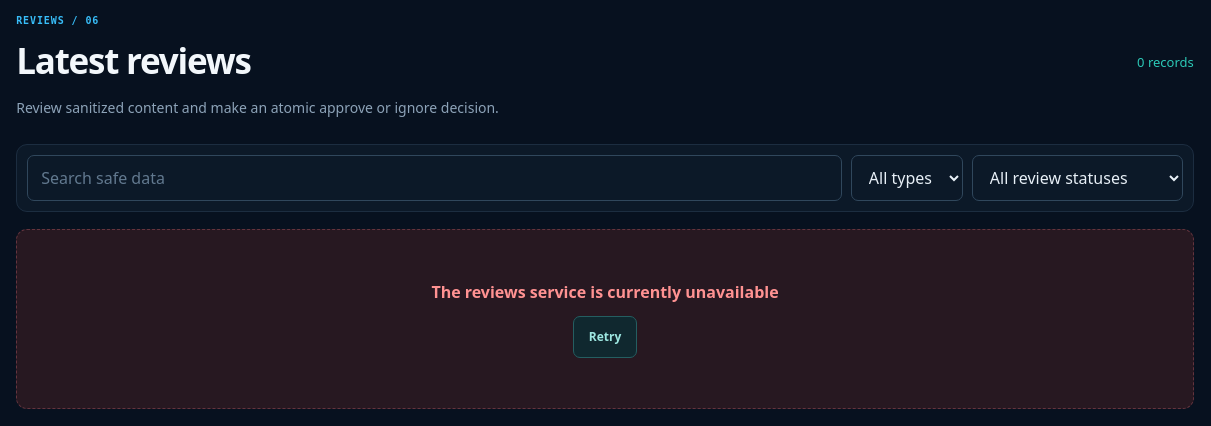
Scenario: external reviews states › recovers from a temporary service failure through Retry without reloading the page
This screenshot has width=1211, height=426.
Expected: the message shows "reviews service is currently unavailable", [431, 281, 779, 303]
What coordinates should you click on to do the following:
click the button "Retry"
I would click on:
 (605, 337)
Its box is [573, 316, 637, 358].
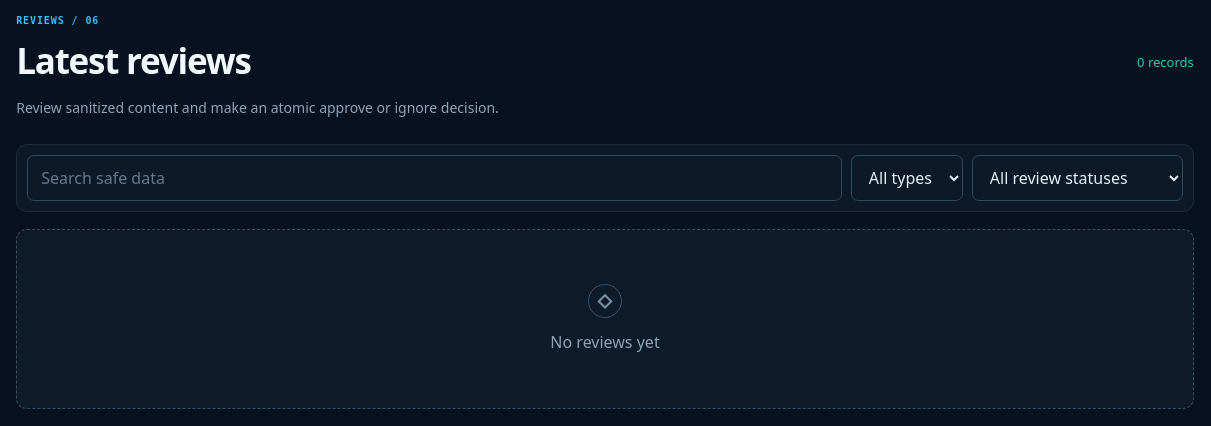
Result: the text "No reviews yet" is shown at [550, 330, 660, 354]
Result: the message "The reviews service is currently unavailable Retry" is gone
